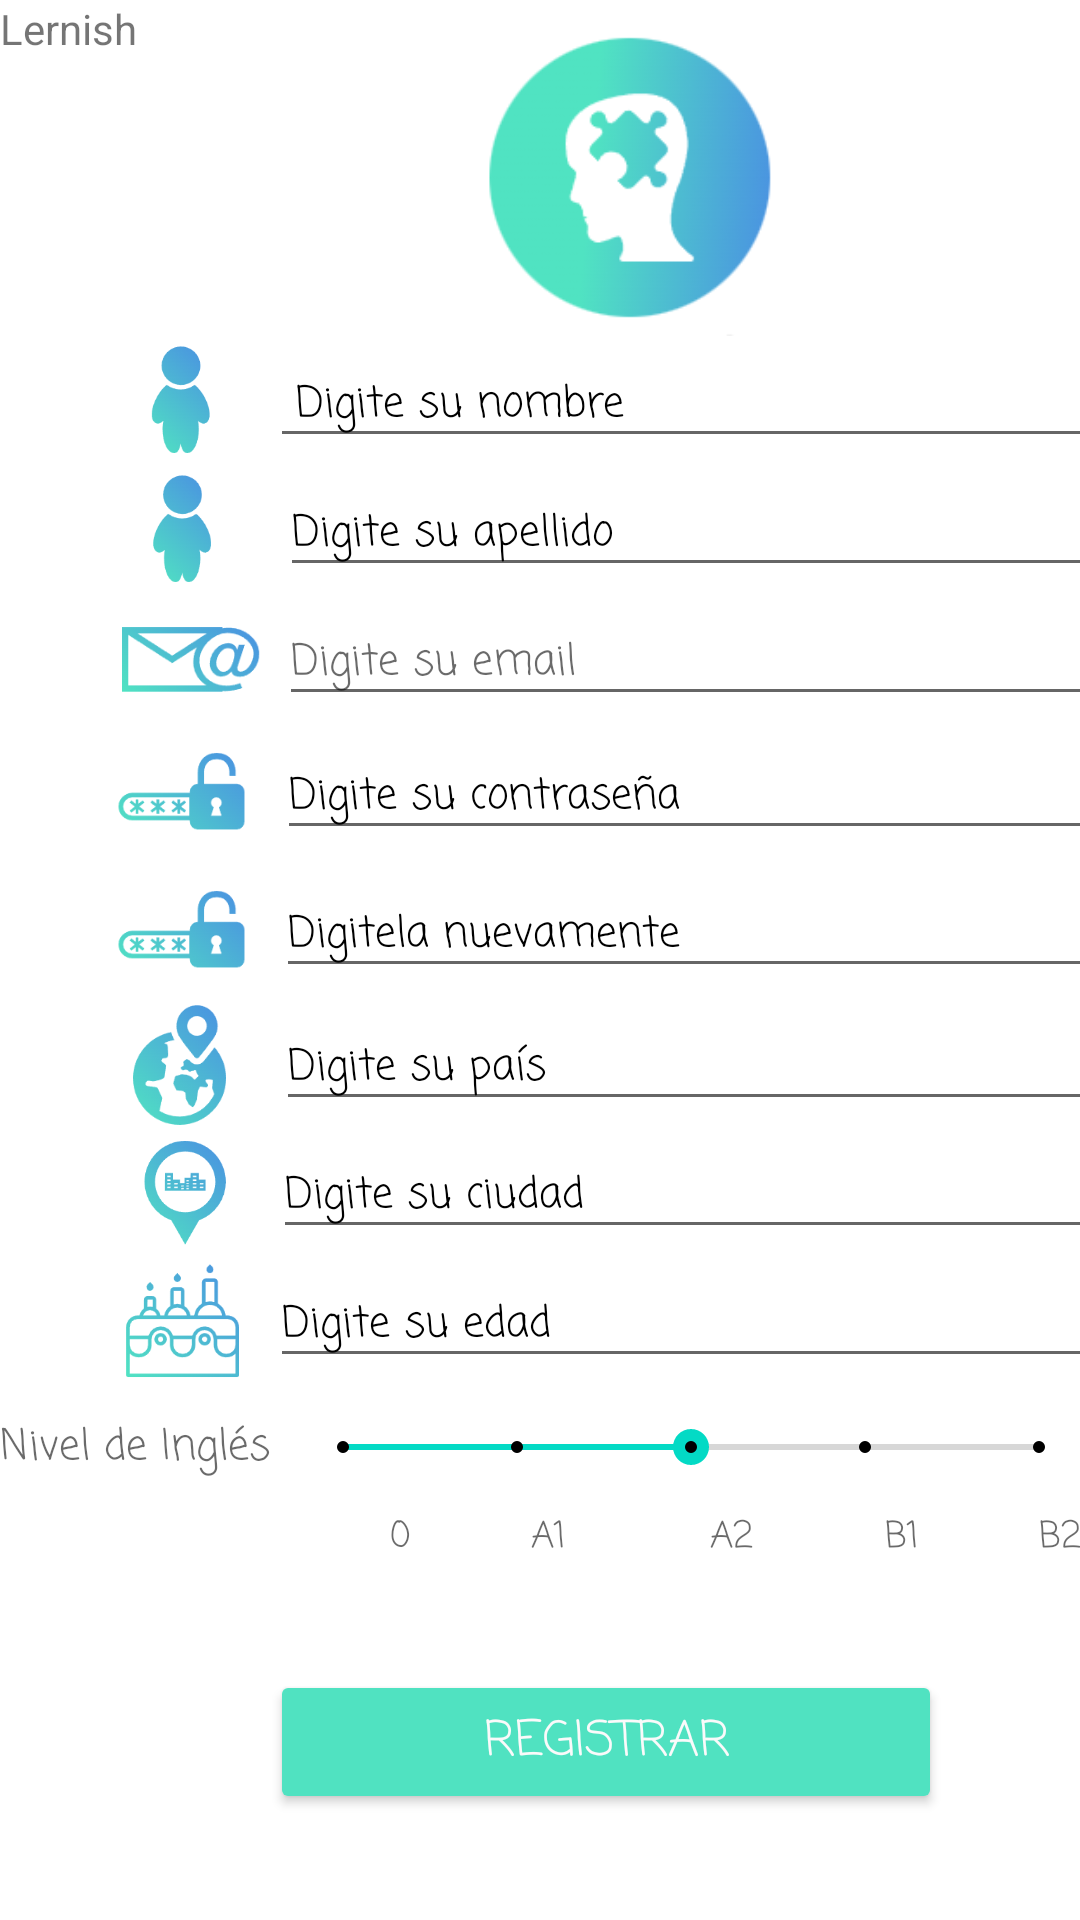

Icons on this 1080*1920 Android screen, each with the point to tap as [x,y]:
persona: [181,399], [182,528]
